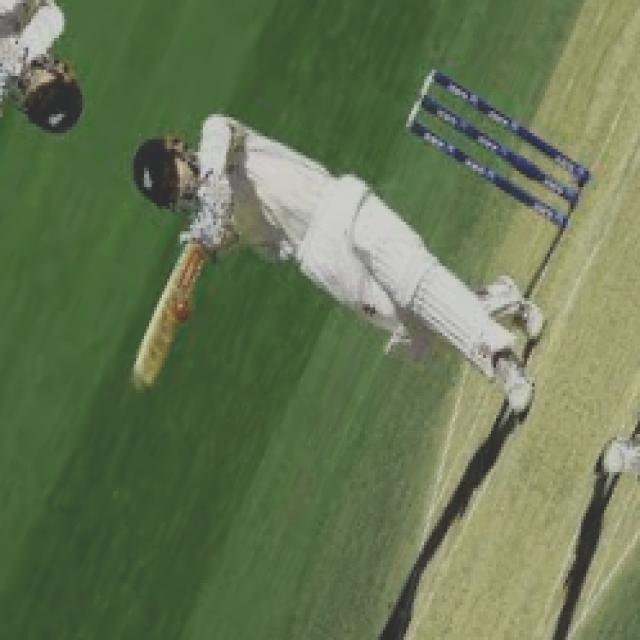toe: (123, 364, 159, 400)
